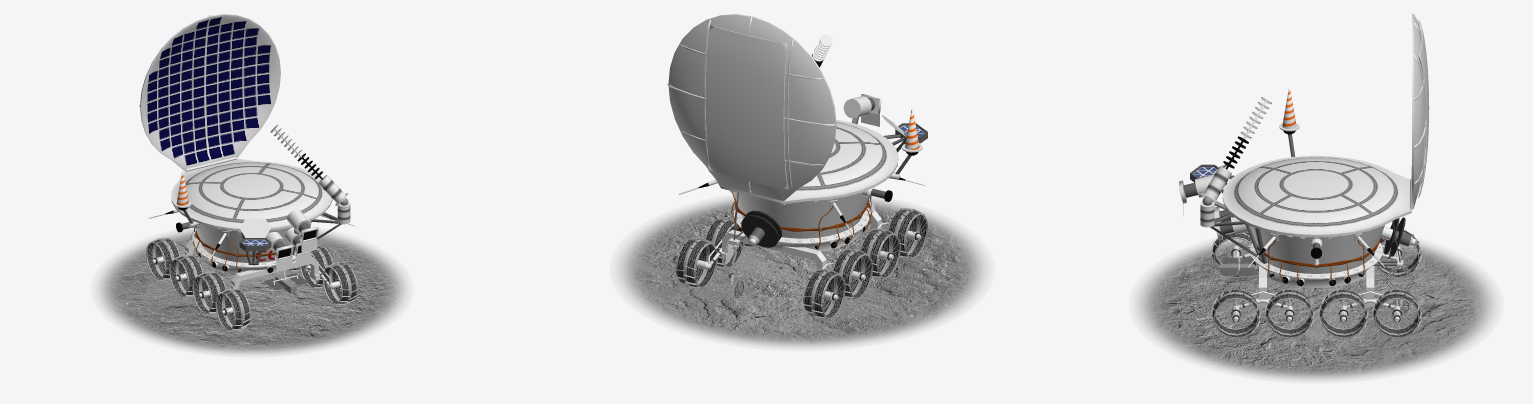
File: lunokhod2.glb
The picture shows the model from 3 angles, left to right: view 1: azimuth 30°, elevation 25°; view 2: azimuth 150°, elevation 25°; view 3: azimuth 270°, elevation 25°; orthographic projection. The views are drawn at different scales.
Parts seen in each view (by area): view 1: Lunohod_2.002, Floor; view 2: Lunohod_2.002, Floor; view 3: Lunohod_2.002, Floor.
Boxes of the visible parts, bbox=[...] form: Lunohod_2.002: bbox=[139, 14, 357, 331]; Floor: bbox=[100, 230, 404, 353]; Lunohod_2.002: bbox=[667, 14, 928, 320]; Floor: bbox=[620, 199, 983, 346]; Lunohod_2.002: bbox=[1179, 14, 1429, 338]; Floor: bbox=[1139, 239, 1492, 378].
Size of the model in its own units: 2.45 by 1.9 by 2.45.
Materials: 2 (2 with a texture image).
